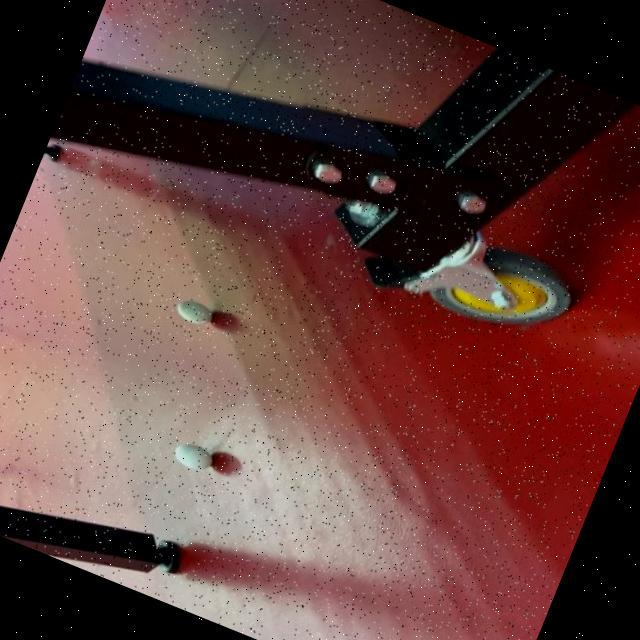ping-pong-ball: (166, 290, 219, 332), (166, 436, 218, 478)
